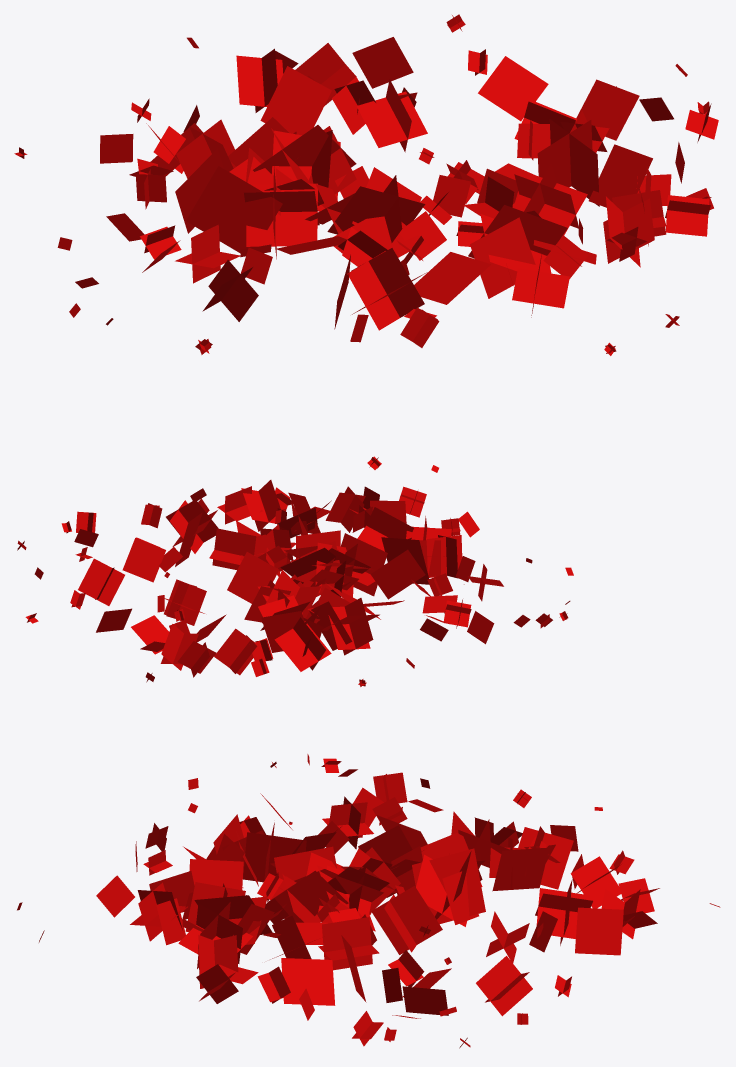
The picture shows the model from 3 angles, top to bottom: view 1: azimuth 30°, elevation 25°; view 2: azimuth 150°, elevation 25°; view 3: azimuth 270°, elevation 25°; orthographic projection. The views are drawn at different scales.
Parts seen in each view (by area): view 1: sargassum final 1; view 2: sargassum final 1; view 3: sargassum final 1.
Boxes of the visible parts, left/top/right/bottom form: sargassum final 1: left=14, top=14, right=718, bottom=355; sargassum final 1: left=17, top=456, right=573, bottom=686; sargassum final 1: left=17, top=754, right=720, bottom=1048.
Bounding box in the file's own units: 5.49 × 0.6251 × 4.96.
